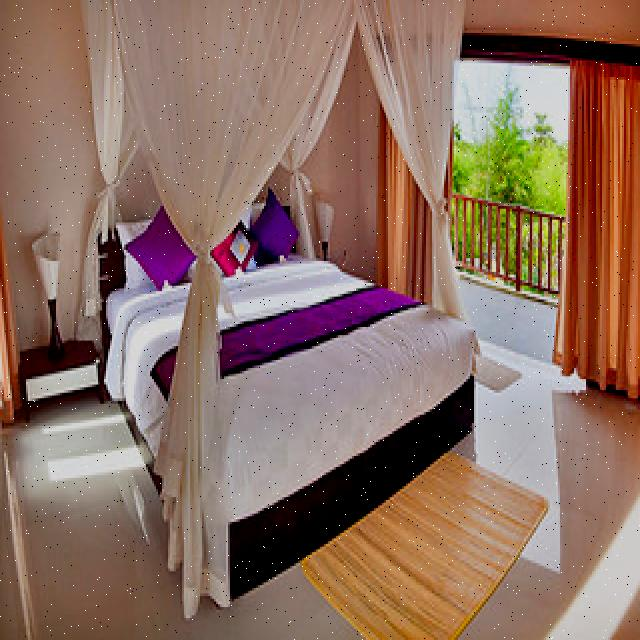bed: (105, 182, 499, 553)
